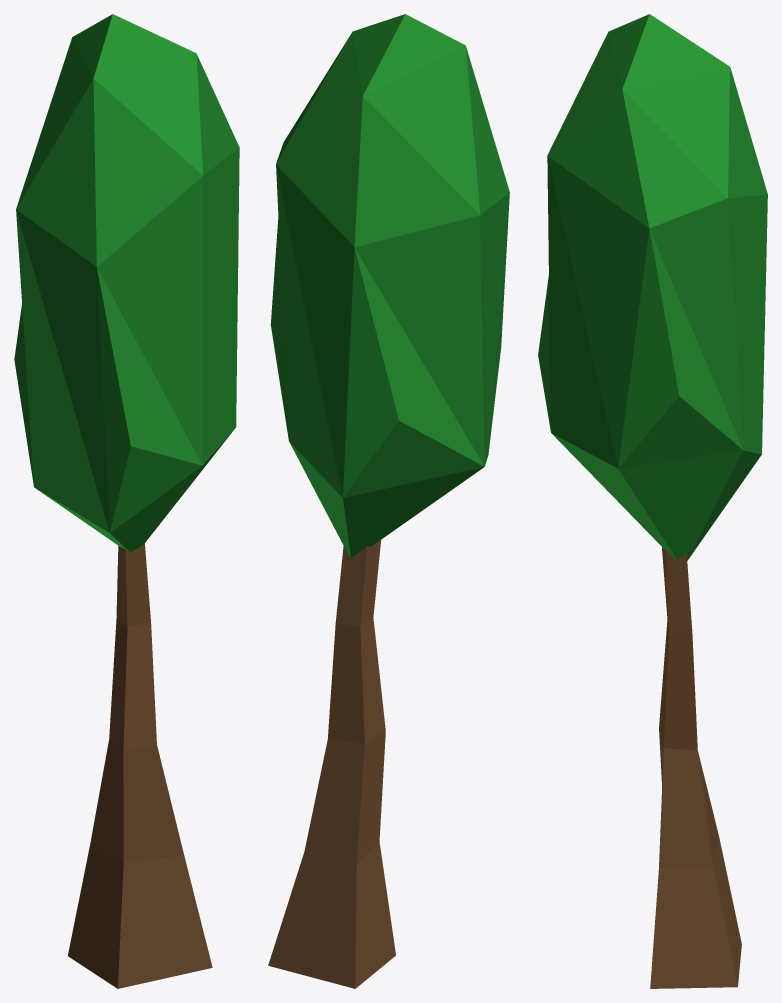
Rendered from tree2.fbx.
3 renders of one model, left to right at view 1: azimuth 30°, elevation 25°; view 2: azimuth 150°, elevation 25°; view 3: azimuth 270°, elevation 25°, orthographic. The views are drawn at different scales.
Parts seen in each view (by area): view 1: Tree2; view 2: Tree2; view 3: Tree2.
Boxes of the visible parts, bbox=[...] form: Tree2: bbox=[14, 14, 239, 988]; Tree2: bbox=[268, 14, 509, 988]; Tree2: bbox=[538, 14, 767, 988].
Bounding box in the file's own units: 137 × 598 × 134.
